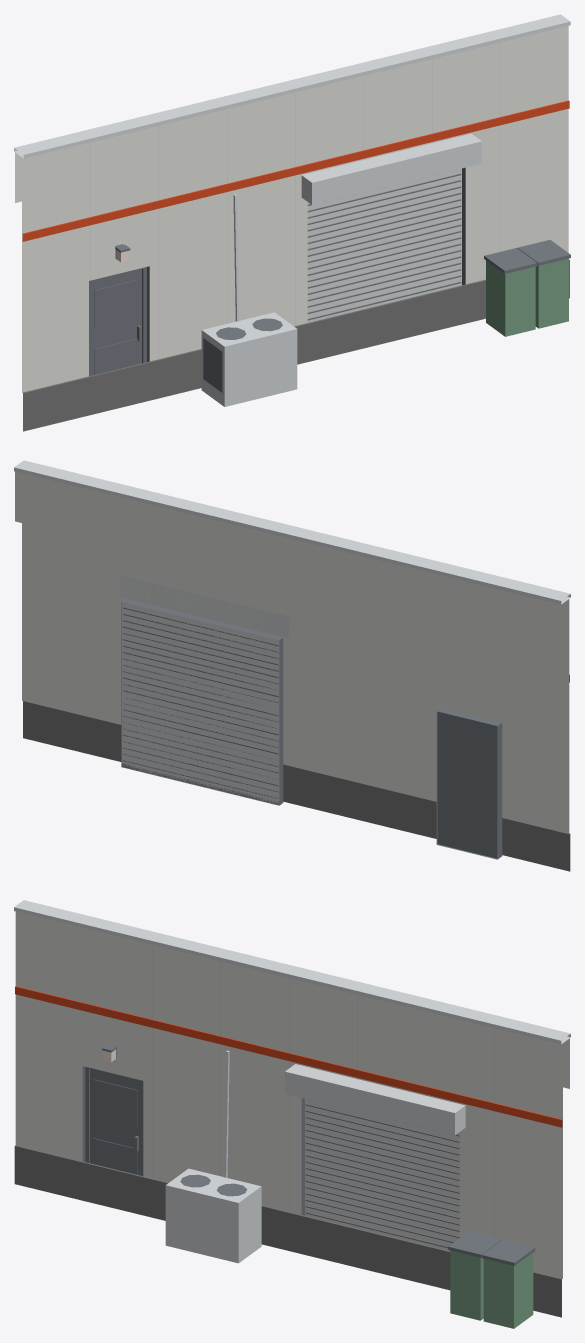
The model's file is base-w3_close.fbx.
The picture shows the model from 3 angles, top to bottom: view 1: azimuth 30°, elevation 25°; view 2: azimuth 150°, elevation 25°; view 3: azimuth 330°, elevation 25°; orthographic projection.
Parts seen in each view (by area): view 1: a2003/400/base-w3_close; view 2: a2003/400/base-w3_close; view 3: a2003/400/base-w3_close.
Part boxes in pixels (x1=…): a2003/400/base-w3_close: x1=14, y1=14, x2=570, y2=431; a2003/400/base-w3_close: x1=14, y1=460, x2=570, y2=871; a2003/400/base-w3_close: x1=14, y1=900, x2=570, y2=1328.
Bounding box in the file's own units: 9 × 4.36 × 0.98.
